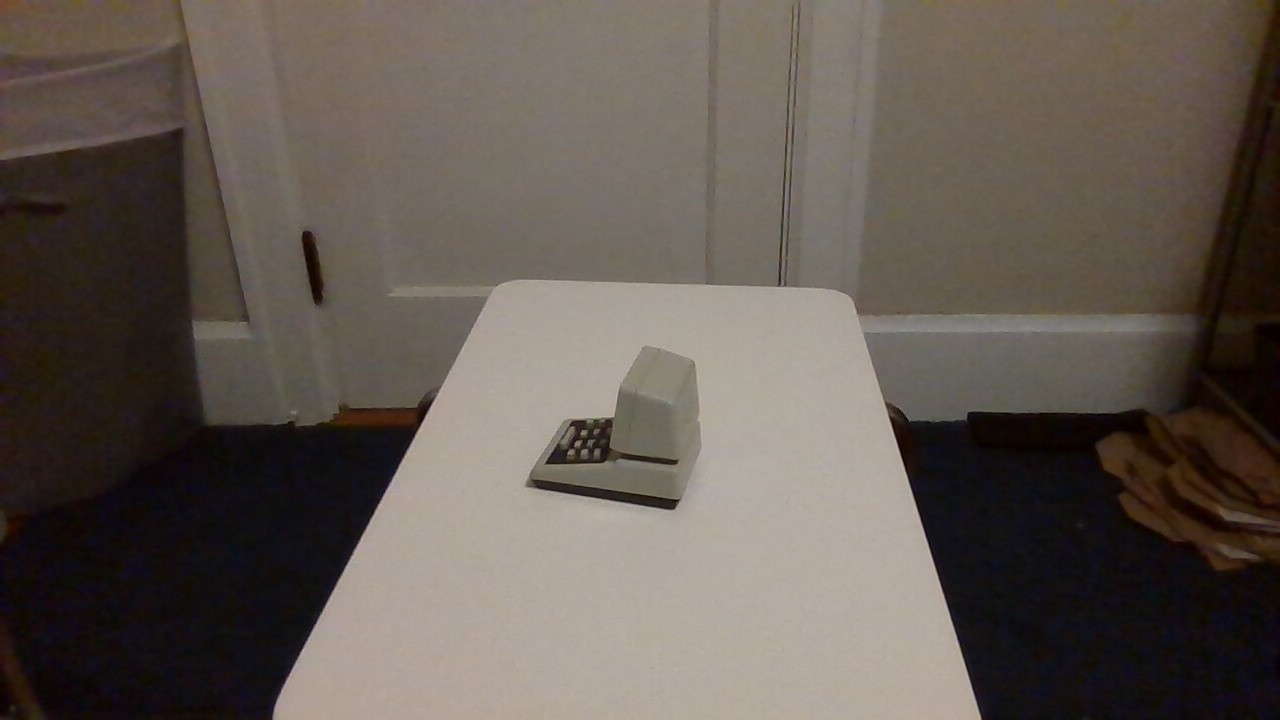Toy: (515, 324, 725, 525)
